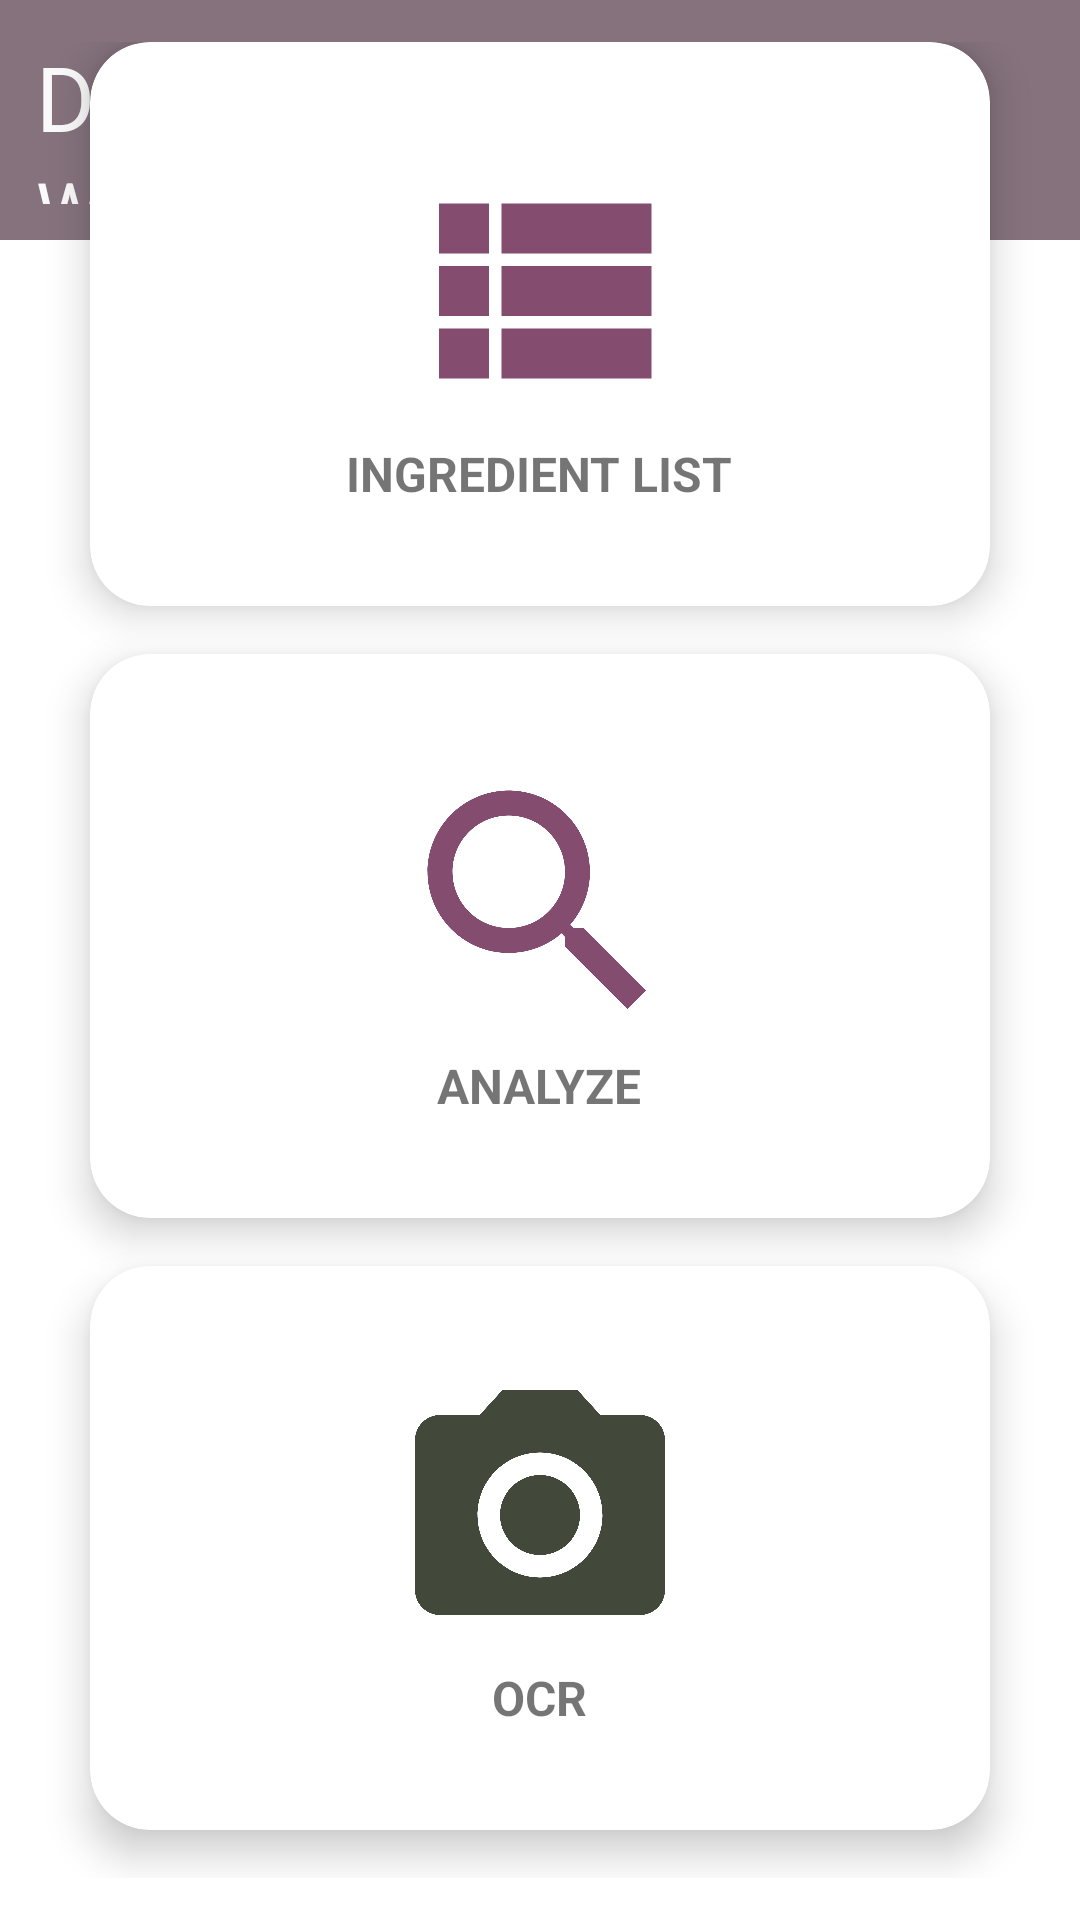

Where to tap for icons on this 1080*1920 app screen, as (x,y):
camera: (540,1502)
search: (536,899)
